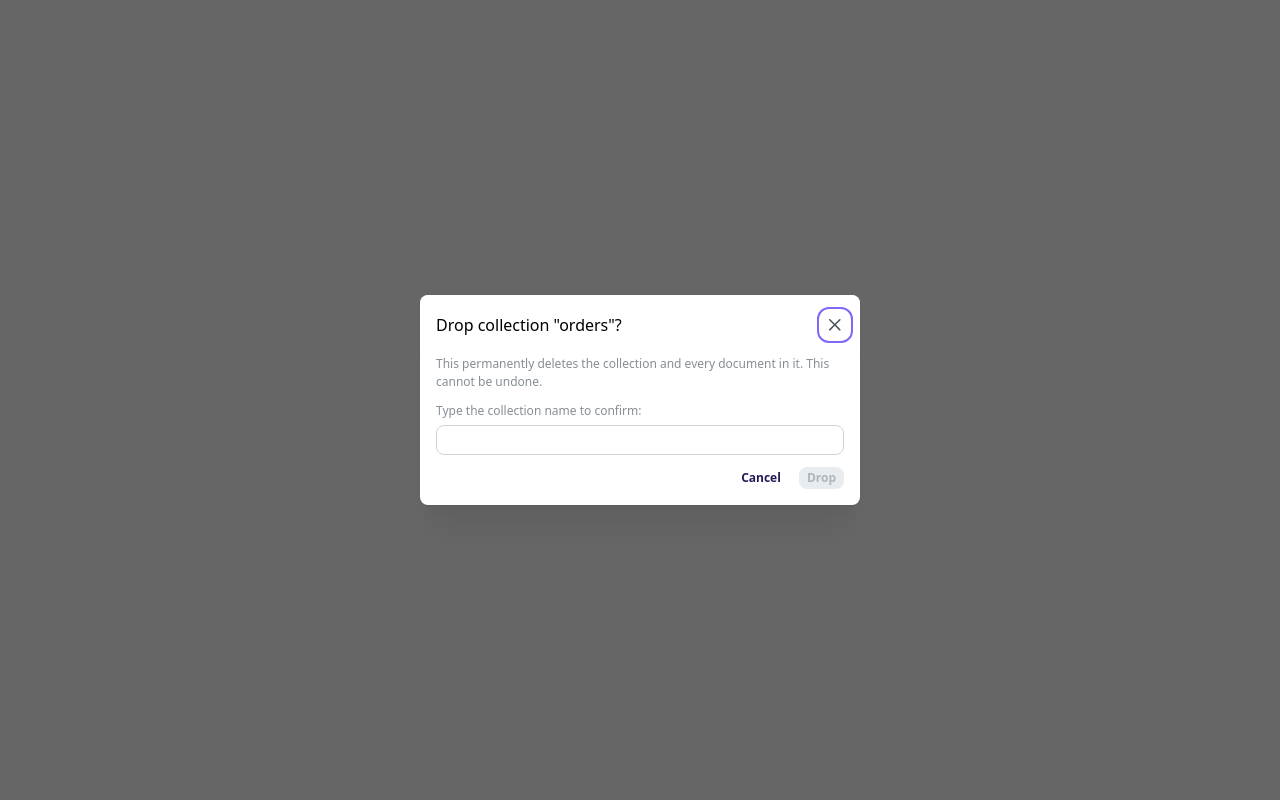
Test case: DropCollectionConfirm › shows an inline error on API failure
Type "orders" into the field named "Confirm collection name" at (640, 440), box [436,425,844,455]
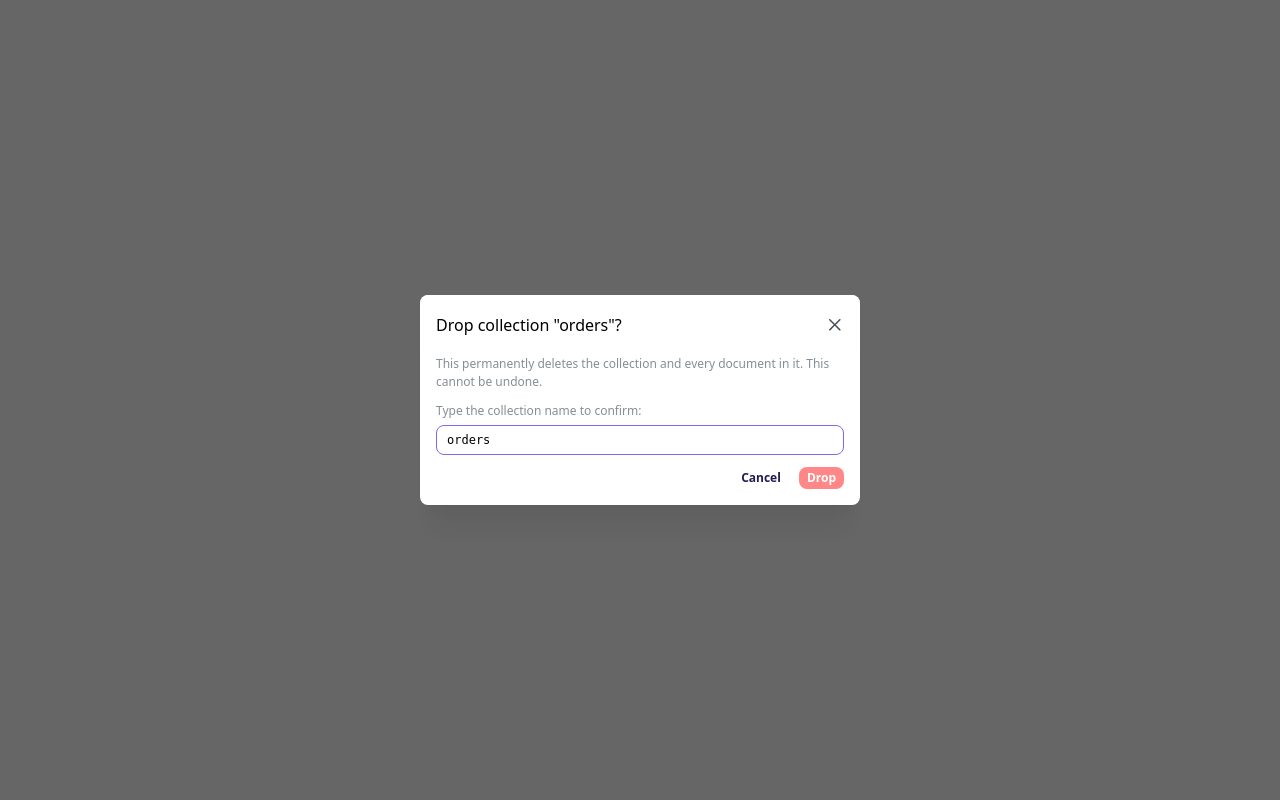
Click the button "Drop" at (821, 478), box [799,467,844,489]
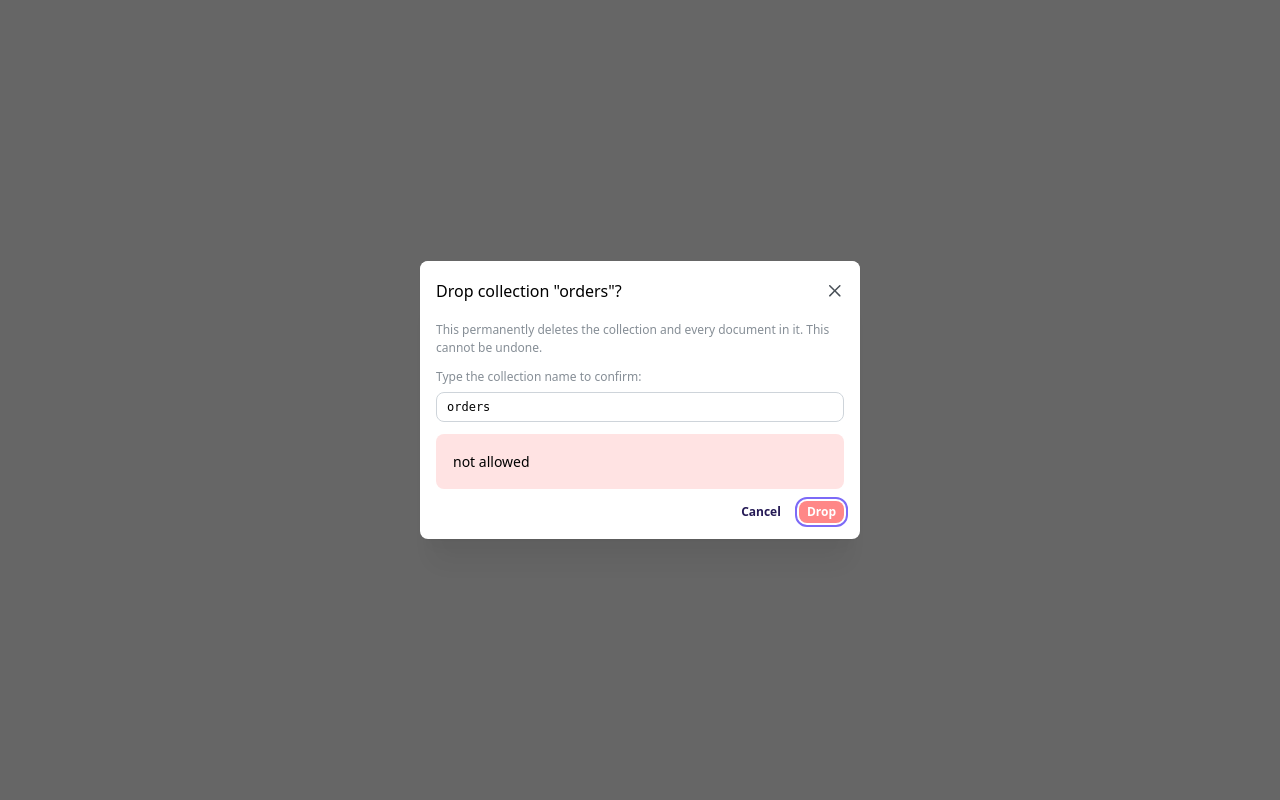
Expected: the message reads "not allowed", [453,452,530,470]
